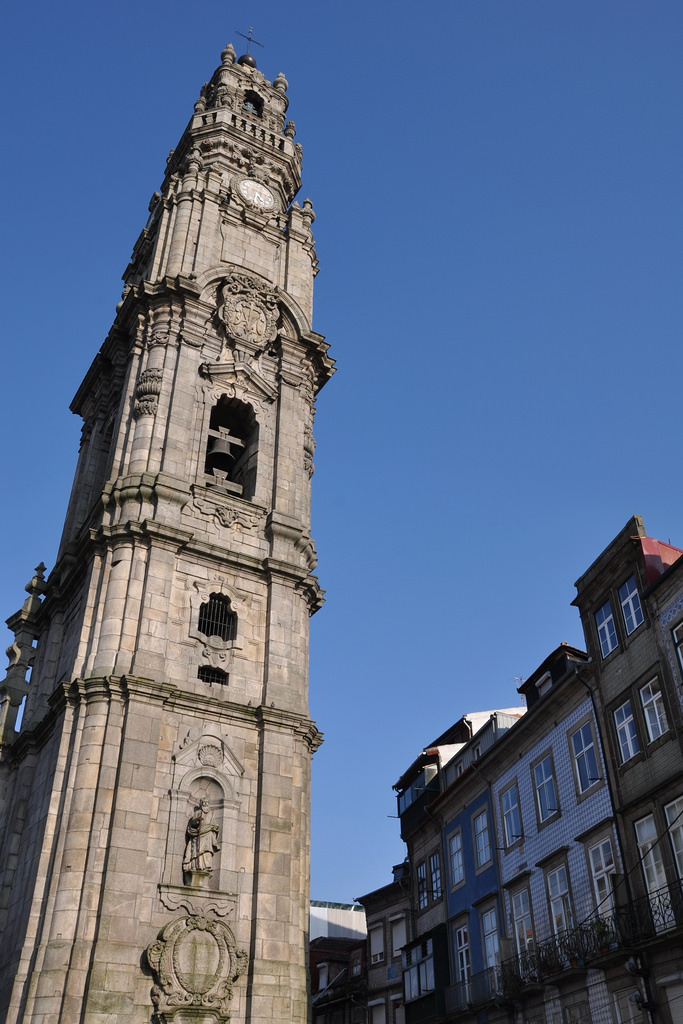clerigos: (0, 27, 336, 1023)
